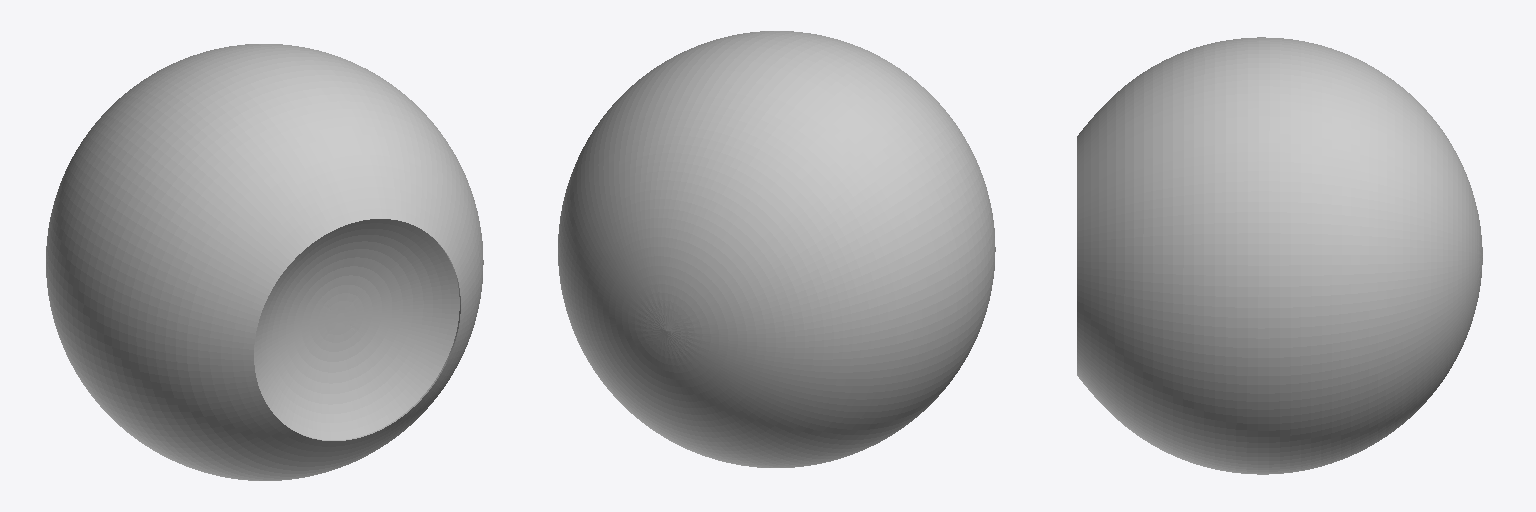
The model's file is eyetesticle.obj.
3 views of the same model, side by side, from view 1: azimuth 30°, elevation 25°; view 2: azimuth 150°, elevation 25°; view 3: azimuth 270°, elevation 25° (orthographic).
Visible parts, largest first — view 1: Eye_Eye_0; view 2: Eye_Eye_0; view 3: Eye_Eye_0.
Boxes of the visible parts, <box> form: Eye_Eye_0: <box>46,44,483,480</box>; Eye_Eye_0: <box>558,31,995,467</box>; Eye_Eye_0: <box>1077,37,1482,474</box>.
Size of the model in its own units: 195 by 195 by 182.